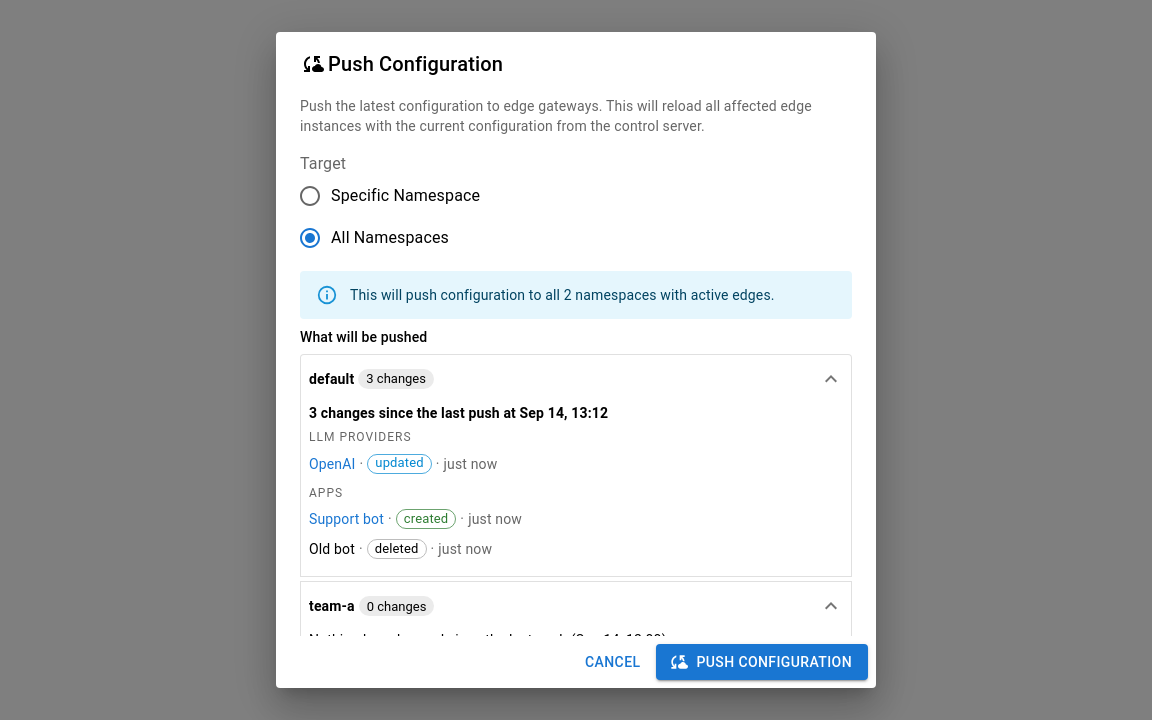
Test: PushConfigurationModal › follows the push until the edges have loaded it
Expected: the element with test id "pending-changes-default" is shown, x1=309 y1=405 x2=608 y2=559
Click the button "Push Configuration".
click(762, 662)  # box x1=656 y1=644 x2=868 y2=680
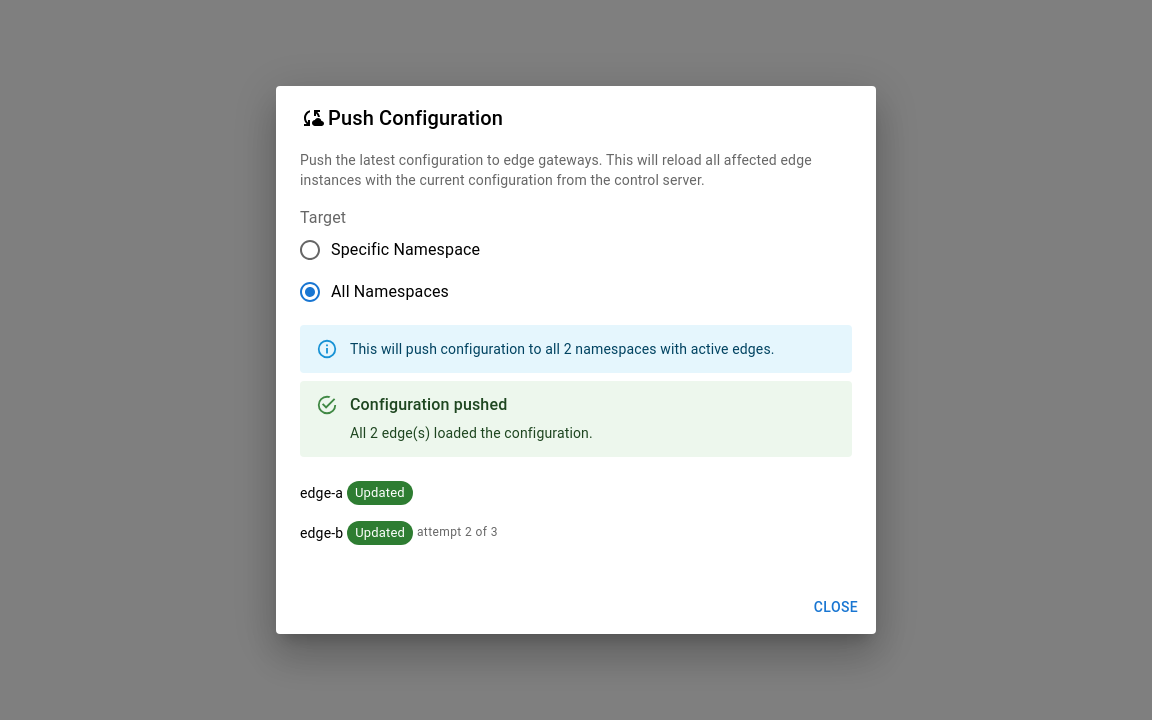
Now the text "Configuration pushed" is shown, box x1=350 y1=396 x2=507 y2=414
Now the text "All 2 edge(s) loaded the configuration." is shown, box x1=350 y1=425 x2=593 y2=441
Now the list item with test id "push-edge-edge-b" shows "Updated", box x1=355 y1=525 x2=405 y2=540
